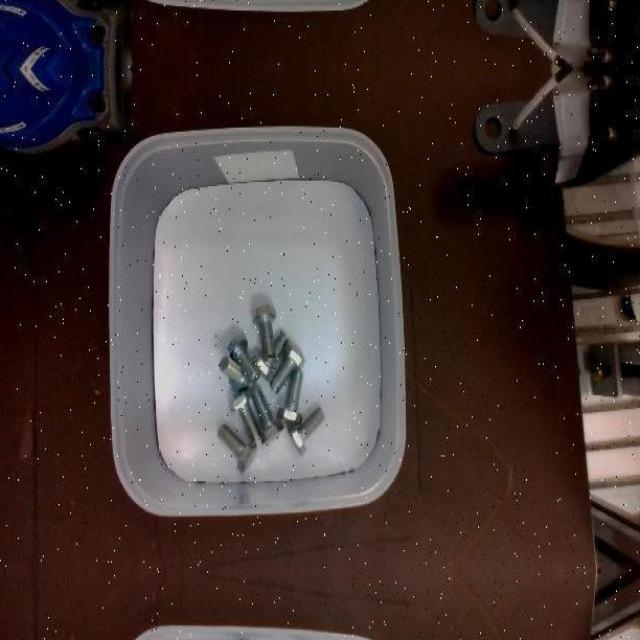screw: (218, 423, 257, 471), (271, 339, 305, 393), (288, 405, 326, 452), (254, 386, 284, 443), (229, 387, 260, 440), (226, 335, 259, 383), (276, 370, 303, 425), (253, 303, 277, 356)
